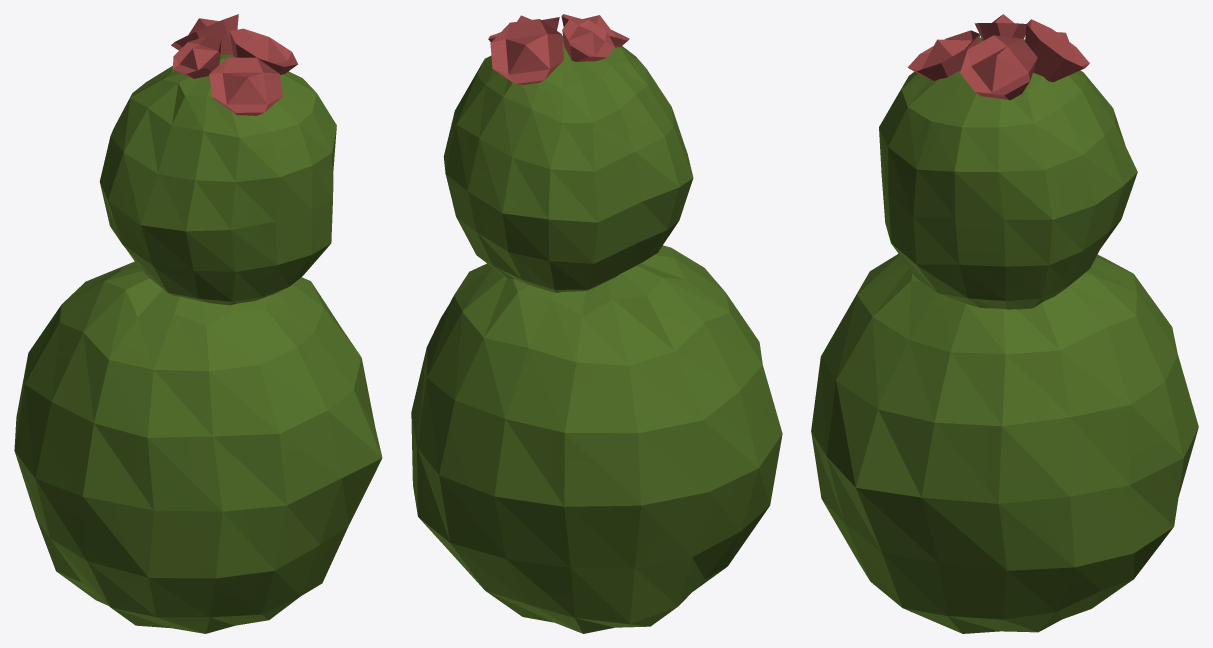
Rendered from Desert_plant_004.glb.
The picture shows the model from 3 angles, left to right: view 1: azimuth 30°, elevation 25°; view 2: azimuth 150°, elevation 25°; view 3: azimuth 270°, elevation 25°; orthographic projection. The views are drawn at different scales.
Visible parts, largest first — view 1: Desert_plant_004; view 2: Desert_plant_004; view 3: Desert_plant_004.
Part boxes in pixels (bbox=[...]): Desert_plant_004: bbox=[14, 14, 382, 633]; Desert_plant_004: bbox=[411, 14, 782, 633]; Desert_plant_004: bbox=[811, 14, 1198, 633].
Size of the model in its own units: 0.3988 by 0.6721 by 0.3988.
1 material, 1 textured.
